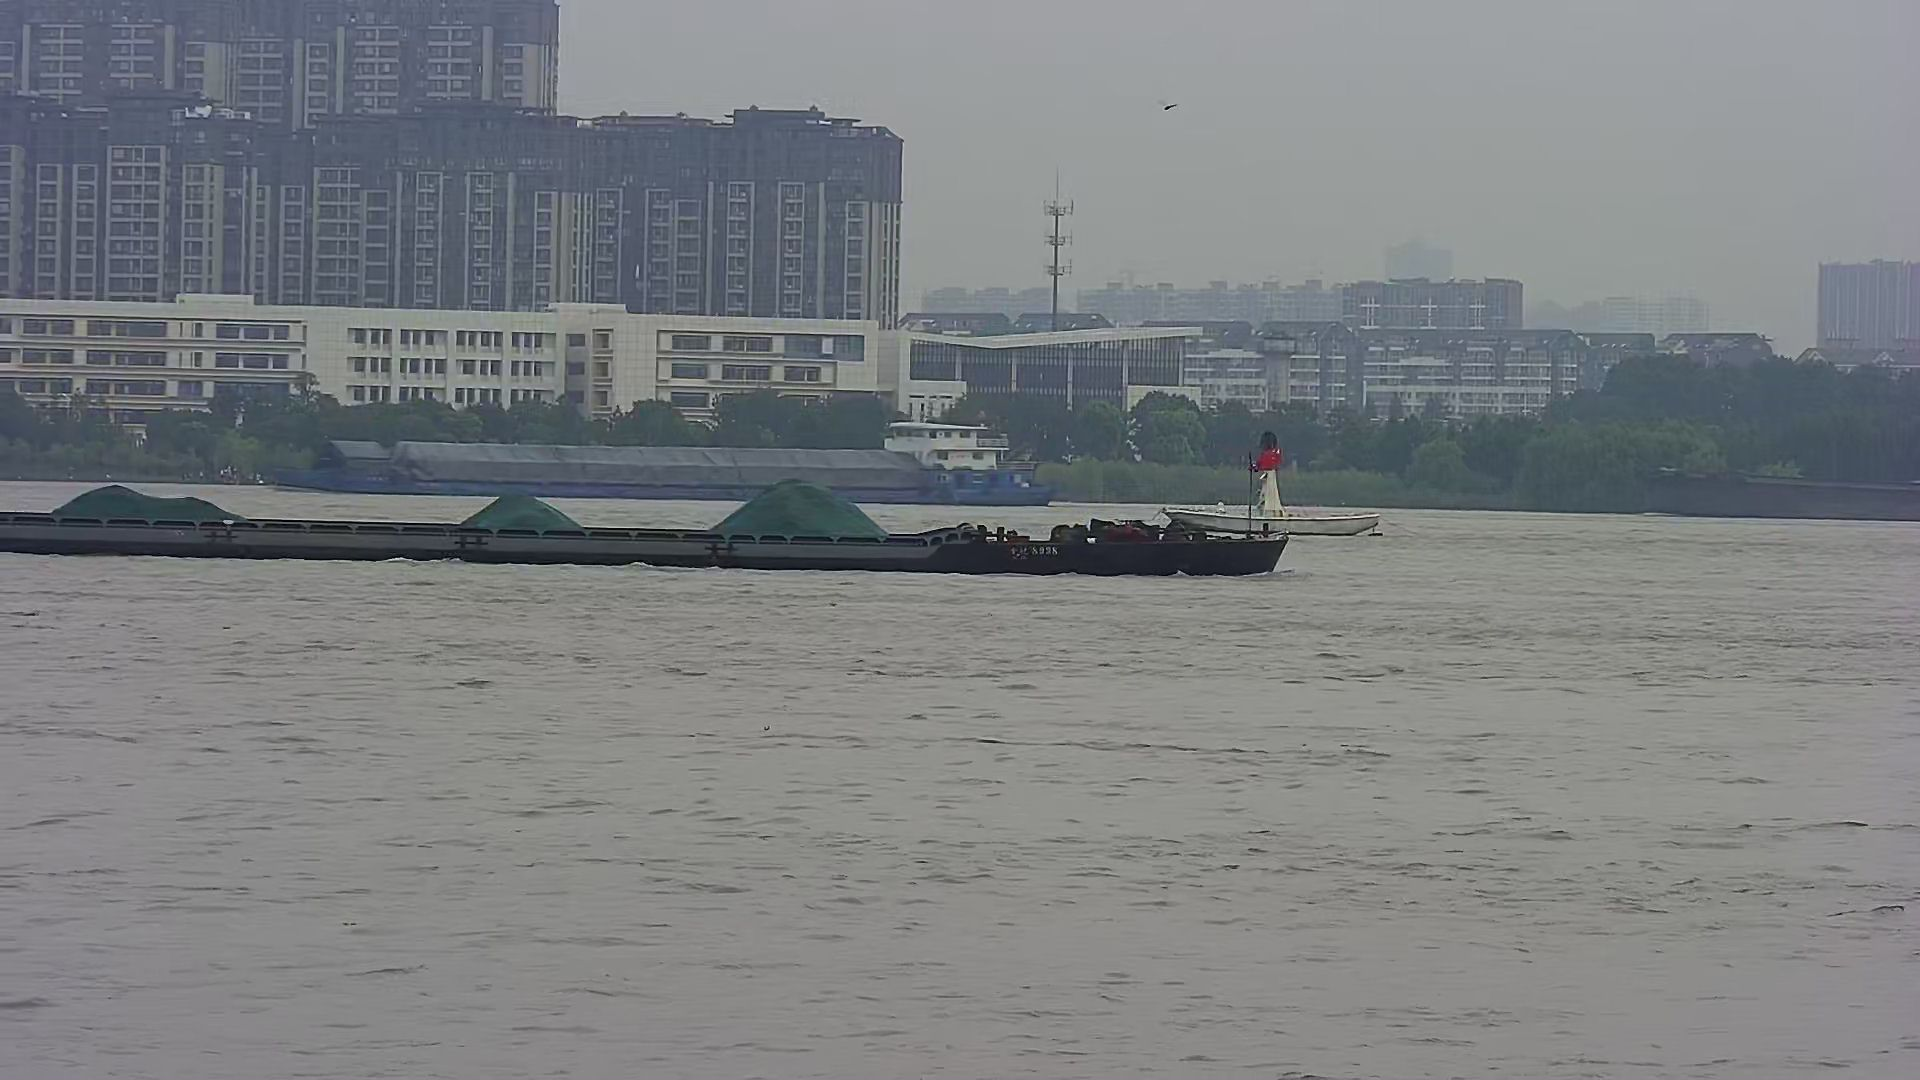boat: (1151, 415, 1394, 539)
ship: (1, 465, 1309, 576), (251, 394, 1069, 508)
